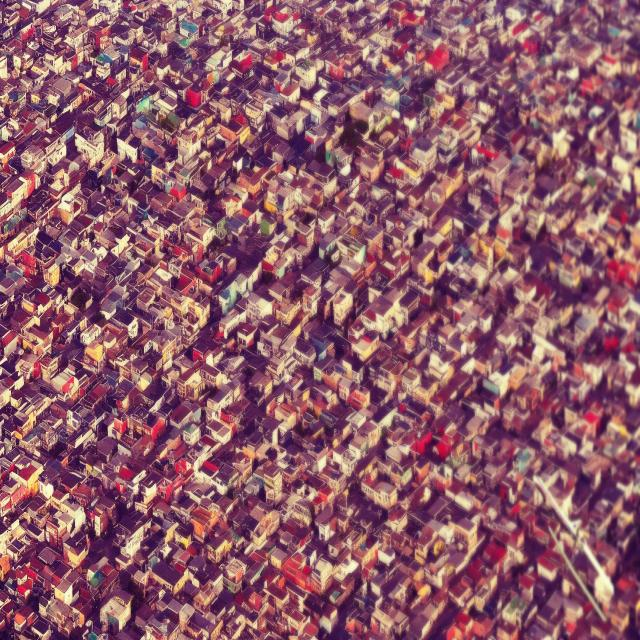airplane: (533, 476, 614, 621)
